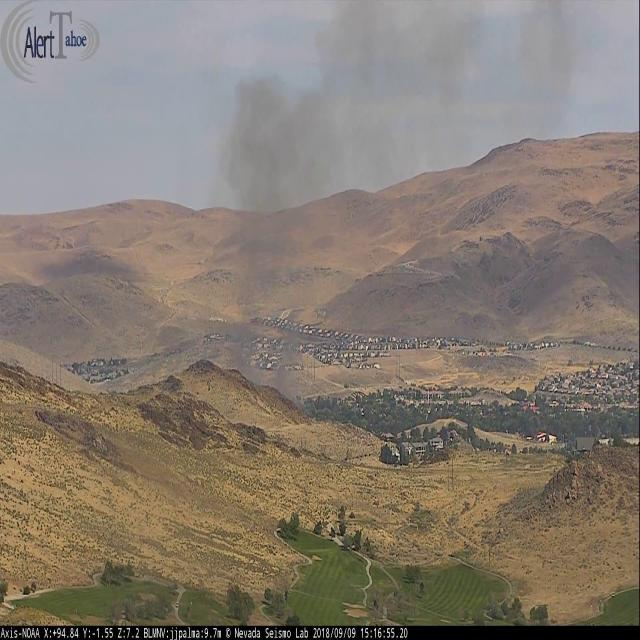smoke: (220, 0, 584, 412)
